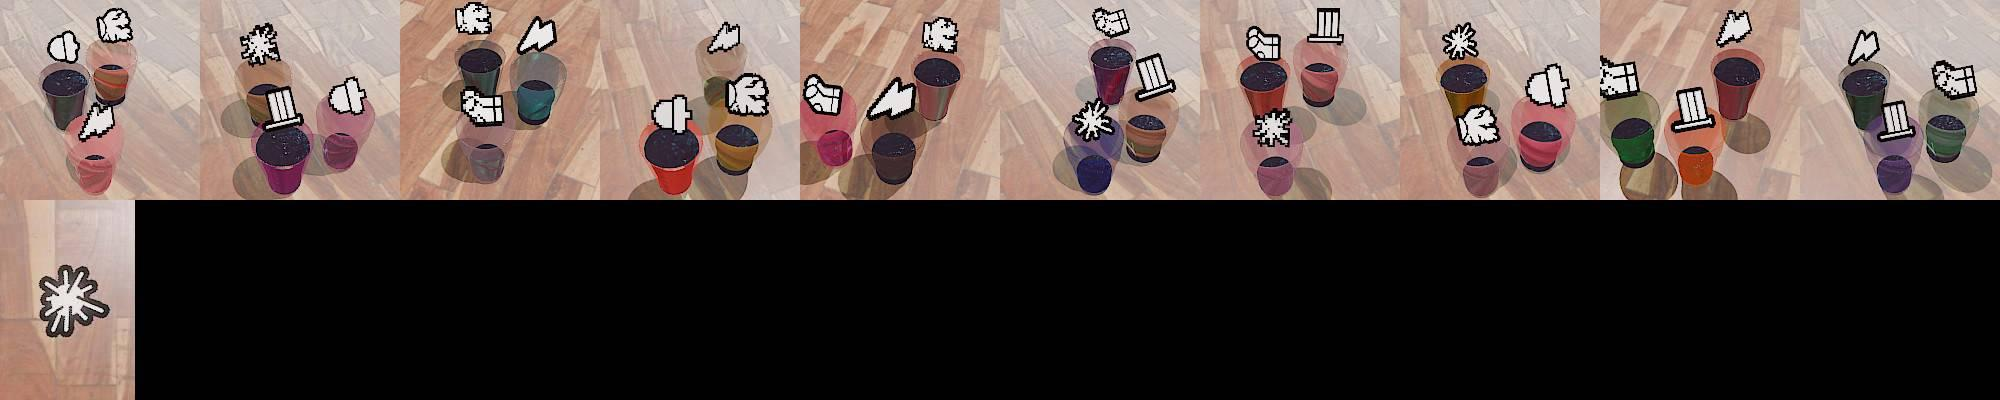icon: (34, 262, 110, 338), (865, 75, 915, 122), (1133, 51, 1179, 102), (1670, 85, 1716, 132), (1070, 97, 1116, 143), (726, 71, 770, 117), (1526, 62, 1570, 108), (1597, 55, 1640, 102), (1454, 103, 1501, 146), (239, 22, 282, 66), (1930, 60, 1978, 99), (261, 84, 304, 129), (459, 85, 506, 125), (802, 73, 844, 116), (77, 97, 117, 140), (515, 15, 557, 56), (1251, 106, 1292, 148), (649, 94, 693, 134), (328, 74, 367, 115), (1440, 20, 1480, 61), (1714, 9, 1753, 48), (1878, 99, 1915, 140), (921, 17, 959, 54), (96, 6, 133, 45), (1245, 24, 1282, 61), (1309, 6, 1344, 45), (454, 1, 492, 36), (1847, 28, 1880, 66), (1092, 6, 1130, 38), (47, 29, 80, 65), (707, 22, 741, 54)
